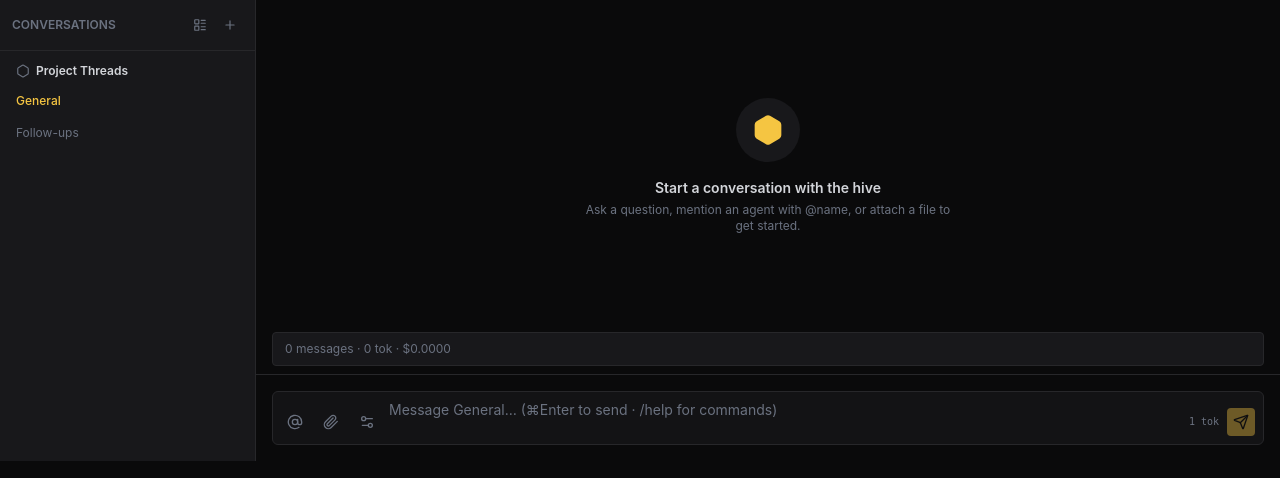
Scenario: ChatCentral › selecting a different thread updates the active thread (composer placeholder changes)
Expected: the text box with placeholder "Message General… (⌘Enter to send · /help for commands)" is shown, [389, 400, 1181, 436]
Click the button "Follow-ups": (128, 133) [16, 125, 239, 141]
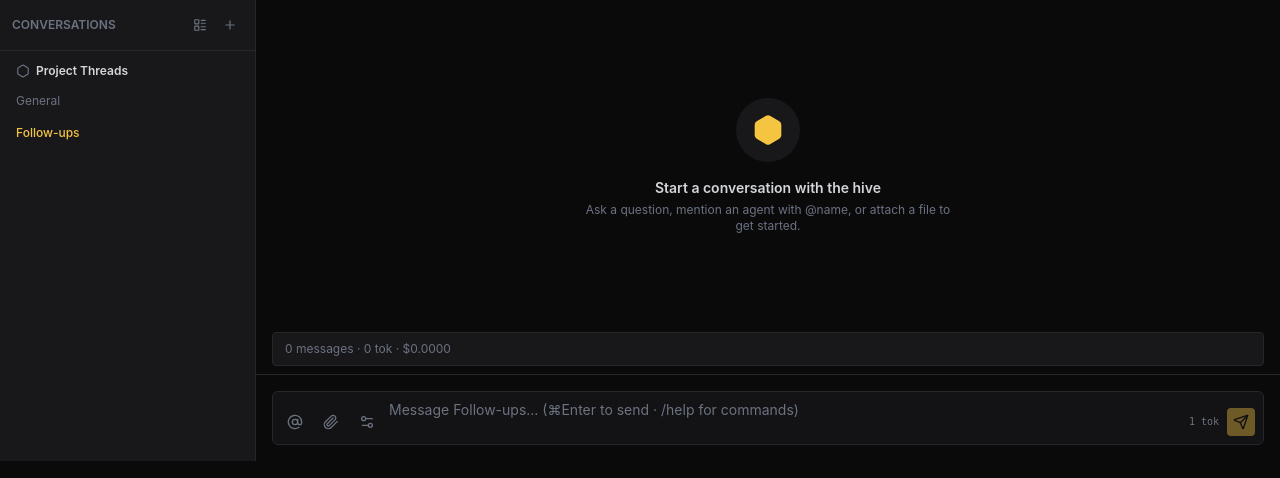
Now the text box with placeholder "Message Follow-ups… (⌘Enter to send · /help for commands)" is shown, box [389, 400, 1181, 436]
